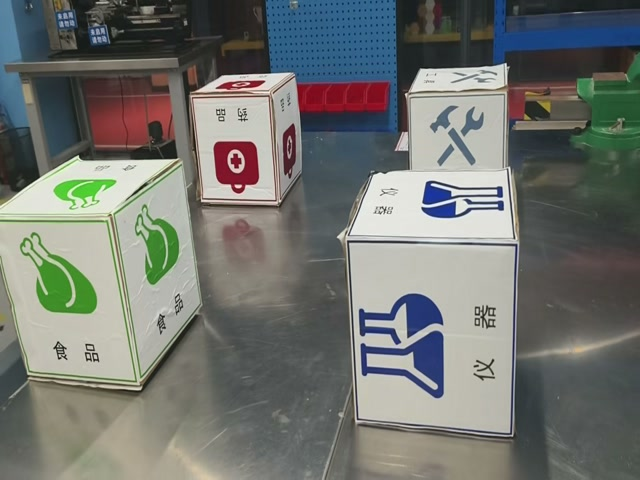Cube_food: (0, 159, 183, 225)
Cube_ins: (346, 169, 517, 246)
Cube_medicine: (191, 73, 295, 99)
Cube_tool: (407, 64, 507, 94)
